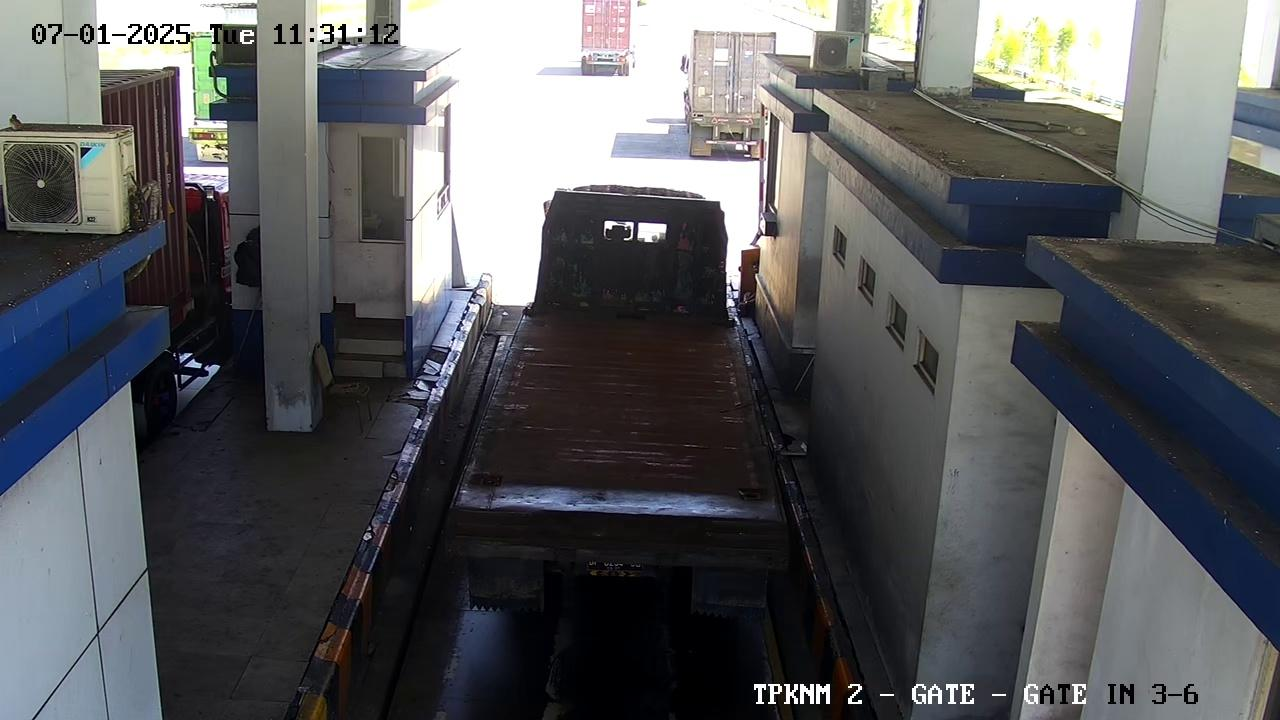plate_number: (576, 551, 654, 595)
